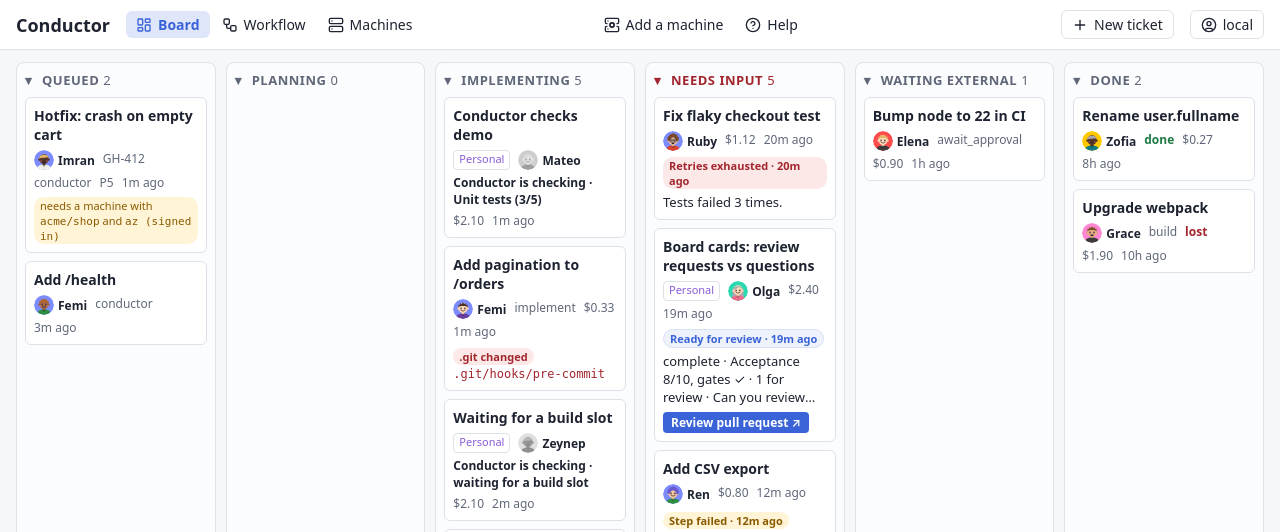
Scenario: quick actions (U-037) › retry names the workflow start when there is no return_to (apply falls back to it)
Step 1. Click the button "Fix flaky checkout test" → (745, 116), box [663, 106, 827, 125]
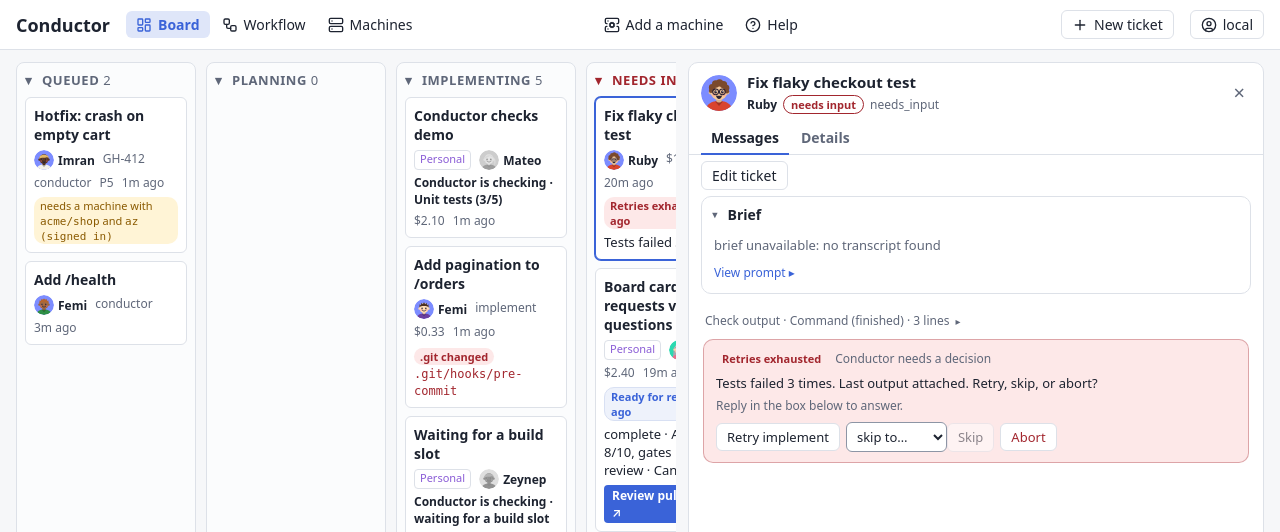
Now the button "Retry implement" is shown, box [716, 423, 840, 451]
